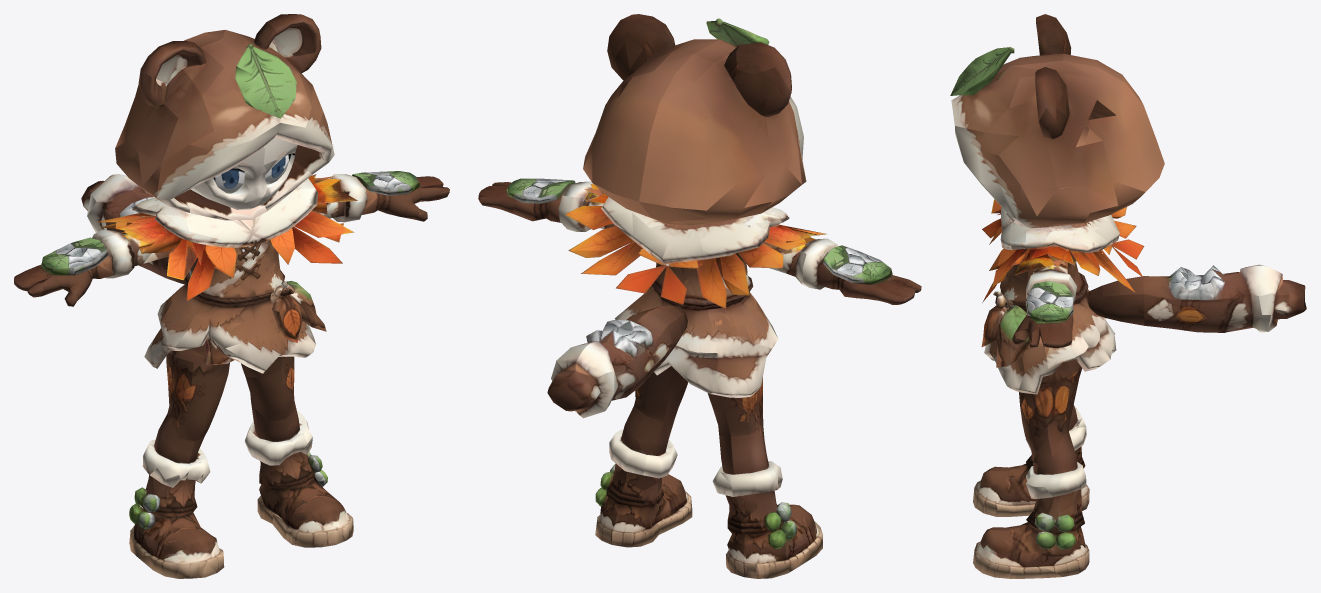
Rendered from leafbear_meshy.glb.
3 views of the same model, side by side, from view 1: azimuth 30°, elevation 25°; view 2: azimuth 150°, elevation 25°; view 3: azimuth 270°, elevation 25° (orthographic). The views are drawn at different scales.
Size of the model in its own units: 1.76 by 2 by 1.33.
Materials: 1 (1 with a texture image).
